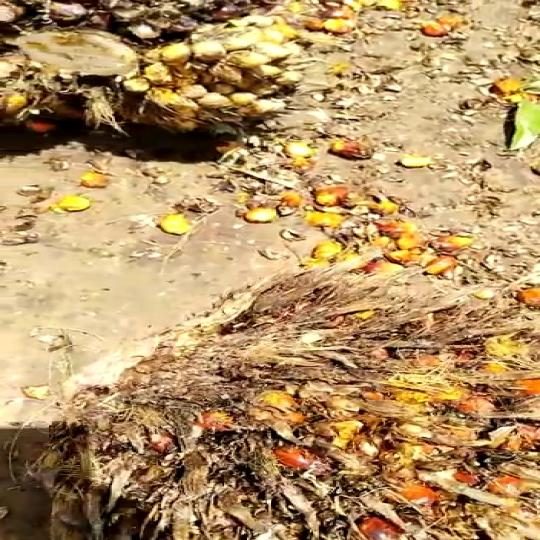terlalu masak: (47, 262, 540, 540)
